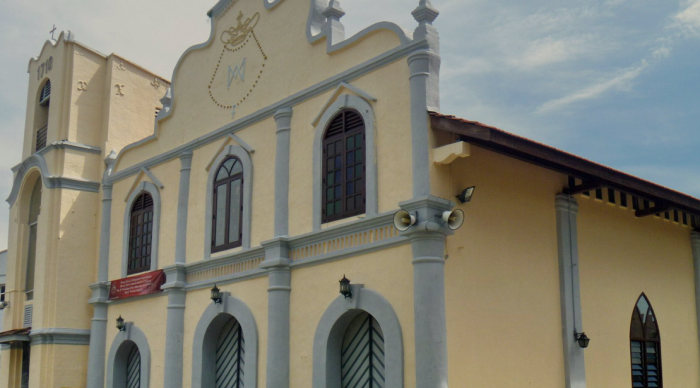Church: (15, 4, 456, 377)
